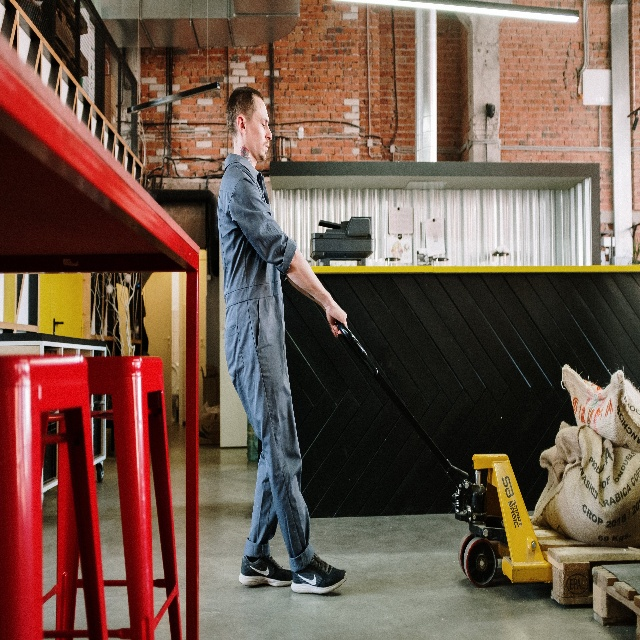Sin_guantes: (325, 298, 348, 338)
